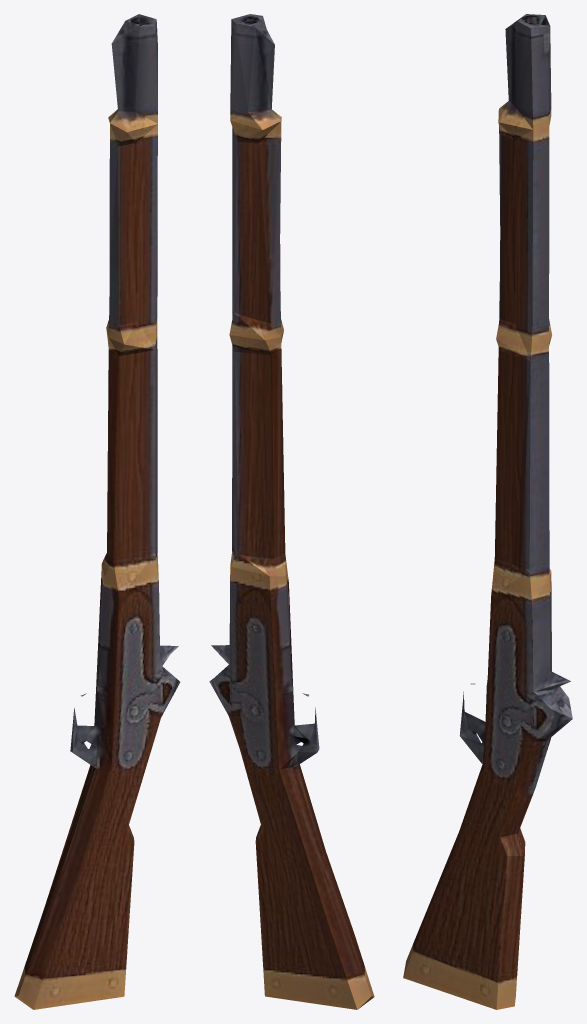
File: weapon_musket.glb
3 renders of one model, left to right at view 1: azimuth 30°, elevation 25°; view 2: azimuth 150°, elevation 25°; view 3: azimuth 330°, elevation 25°, orthographic. The views are drawn at different scales.
Parts seen in each view (by area): view 1: Weapon_musket; view 2: Weapon_musket; view 3: Weapon_musket.
Part boxes in pixels (x1,y1,x2,y2): Weapon_musket: (14,14,180,1009); Weapon_musket: (209,14,374,1009); Weapon_musket: (403,14,572,1009).
Bounding box in the file's own units: 0.1317 × 0.7489 × 0.0269.
1 material, 1 textured.
